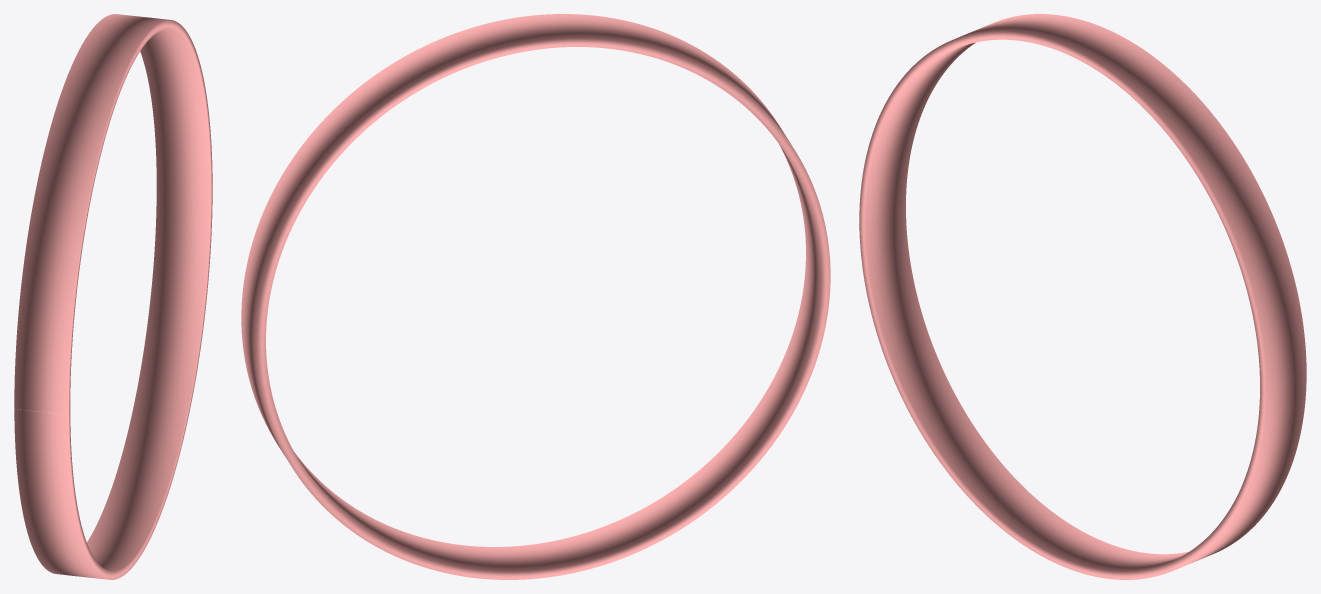
File: coil_coil_2_tube.gltf
3 renders of one model, left to right at view 1: azimuth 30°, elevation 25°; view 2: azimuth 150°, elevation 25°; view 3: azimuth 270°, elevation 25°, orthographic. The views are drawn at different scales.
Parts seen in each view (by area): view 1: Renderer Node; view 2: Renderer Node; view 3: Renderer Node.
Boxes of the visible parts, box(x1,y1,x2,y2) form: Renderer Node: box(14, 14, 212, 579); Renderer Node: box(241, 14, 830, 579); Renderer Node: box(859, 14, 1306, 579).
Bounding box in the file's own units: 0.473 × 0.6102 × 0.4745.
